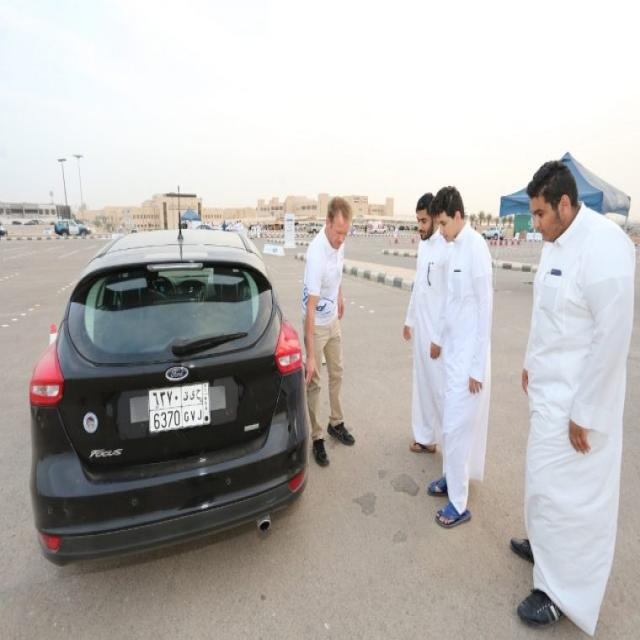license_plate: (148, 377, 212, 439)
